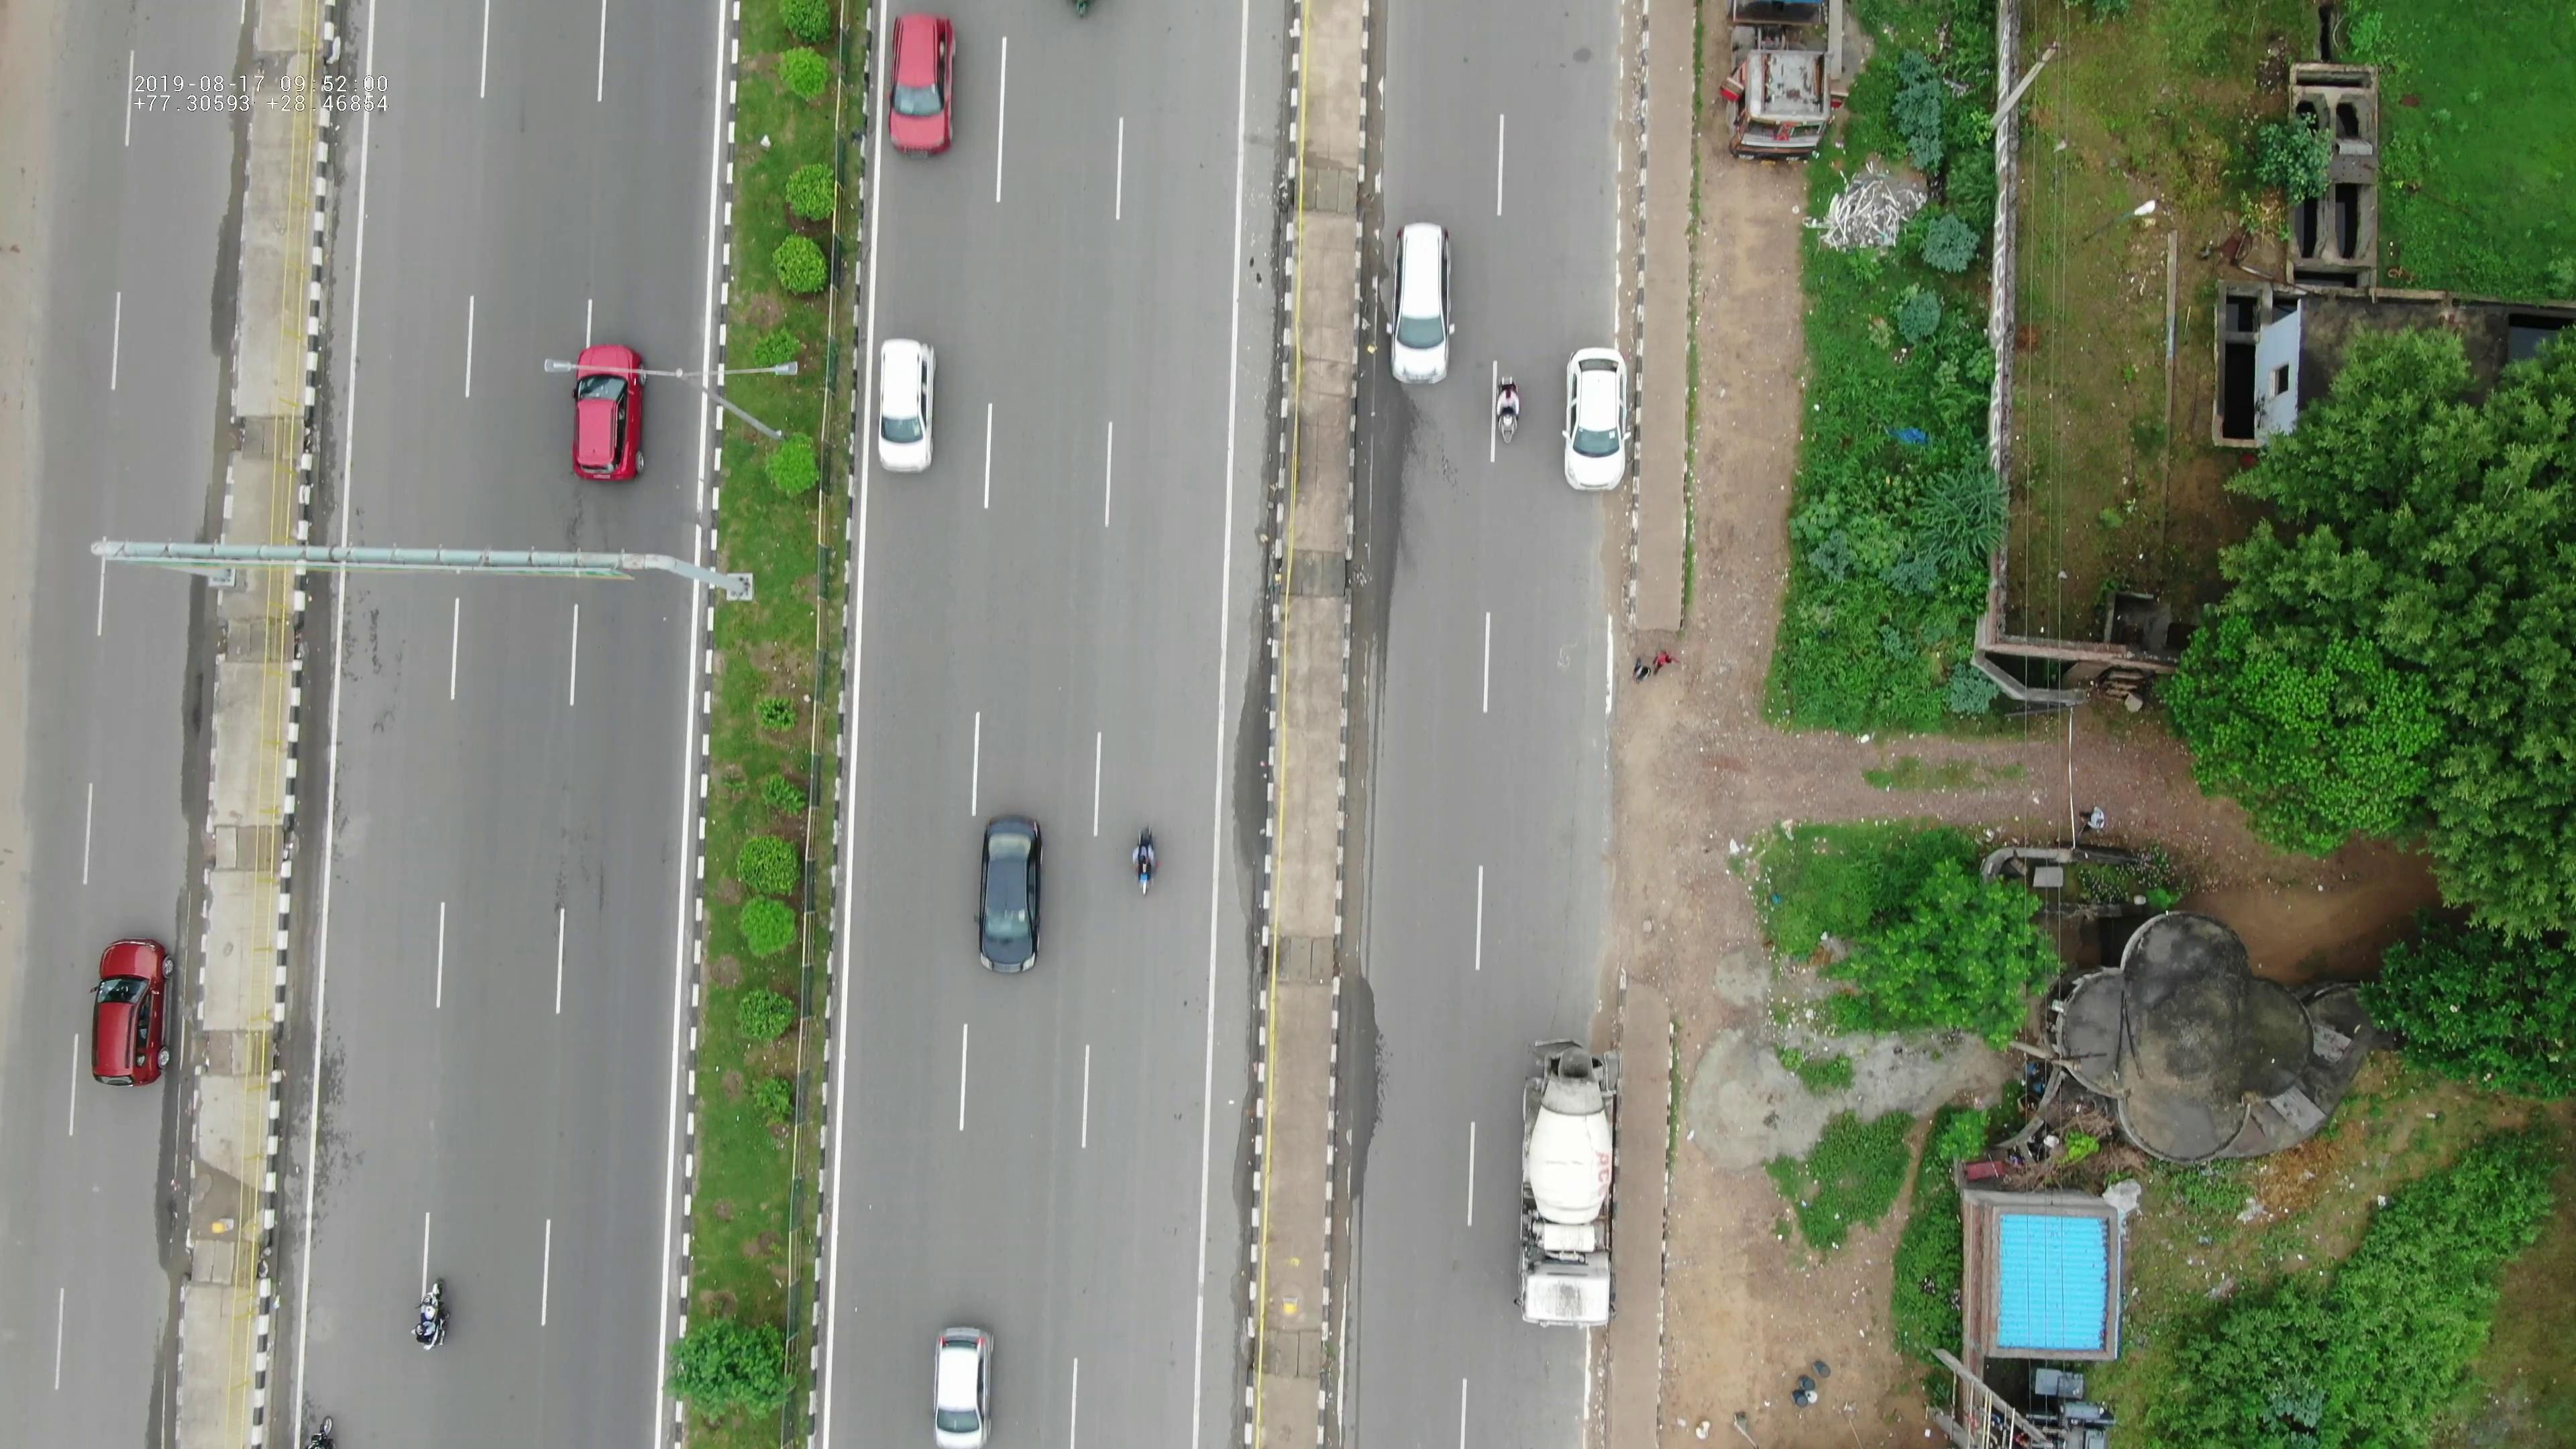Muddy_road: (1582, 1332, 1612, 1447)
